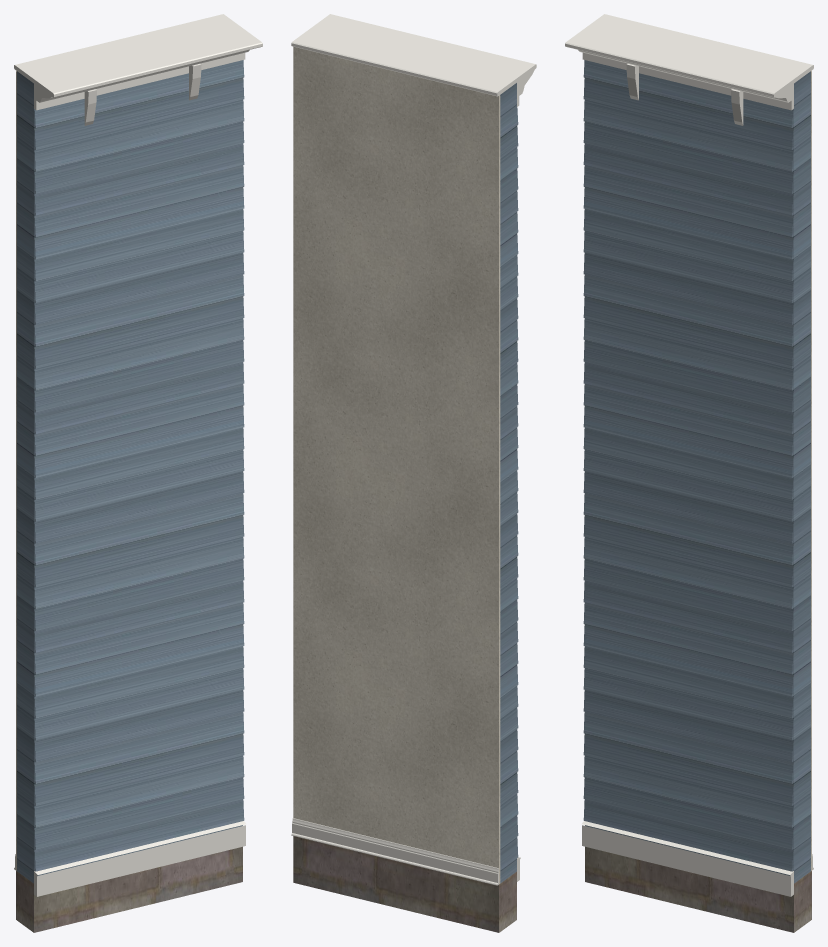
The model's file is front_plain.glb.
3 renders of one model, left to right at view 1: azimuth 30°, elevation 25°; view 2: azimuth 150°, elevation 25°; view 3: azimuth 330°, elevation 25°, orthographic.
Parts seen in each view (by area): view 1: front_plain_siding, front_plain_trim, front_plain_stone, front_plain_plaster; view 2: front_plain_plaster, front_plain_siding, front_plain_stone, front_plain_trim, molduras; view 3: front_plain_siding, front_plain_trim, front_plain_stone, front_plain_plaster.
Part boxes in pixels (x1=…): front_plain_siding: x1=17, y1=60, x2=244, y2=883; front_plain_trim: x1=14, y1=14, x2=262, y2=896; front_plain_stone: x1=16, y1=846, x2=242, y2=932; front_plain_plaster: x1=16, y1=70, x2=16, y2=870; front_plain_plaster: x1=293, y1=46, x2=500, y2=884; front_plain_siding: x1=500, y1=83, x2=518, y2=883; front_plain_stone: x1=293, y1=836, x2=516, y2=932; front_plain_trim: x1=291, y1=14, x2=536, y2=881; molduras: x1=291, y1=818, x2=498, y2=885; front_plain_siding: x1=583, y1=60, x2=810, y2=883; front_plain_trim: x1=565, y1=14, x2=813, y2=896; front_plain_stone: x1=585, y1=846, x2=811, y2=932; front_plain_plaster: x1=811, y1=70, x2=811, y2=870.
Size of the model in its own units: 2 by 7.81 by 0.66.
4 materials, 3 textured.
